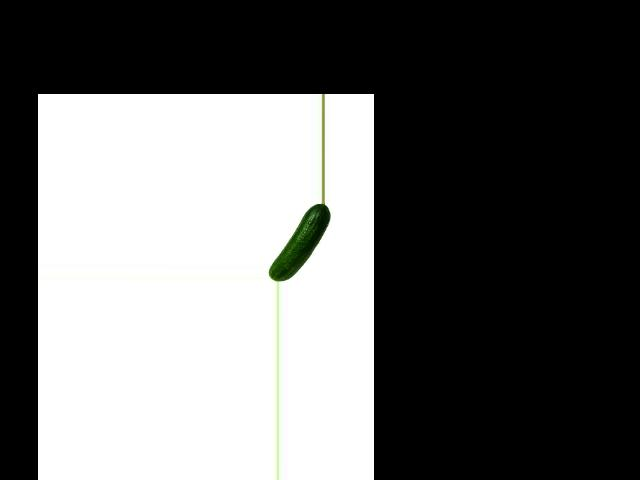cucumber: (269, 203, 330, 281)
